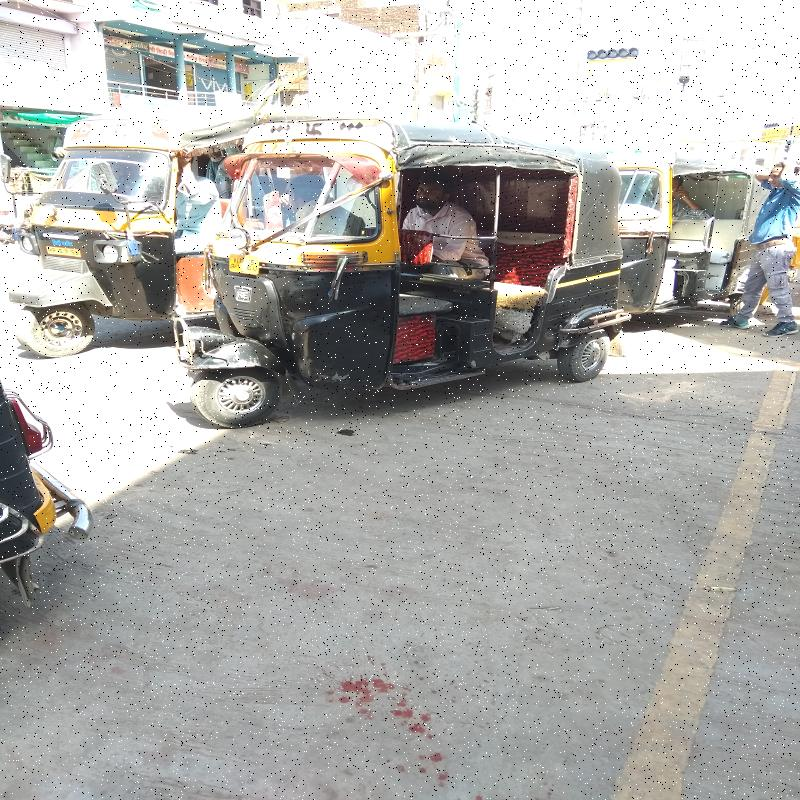auto: (228, 134, 604, 384), (17, 114, 214, 356)
